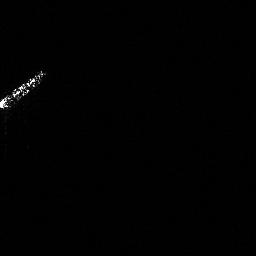ship: (1, 66, 48, 112)
